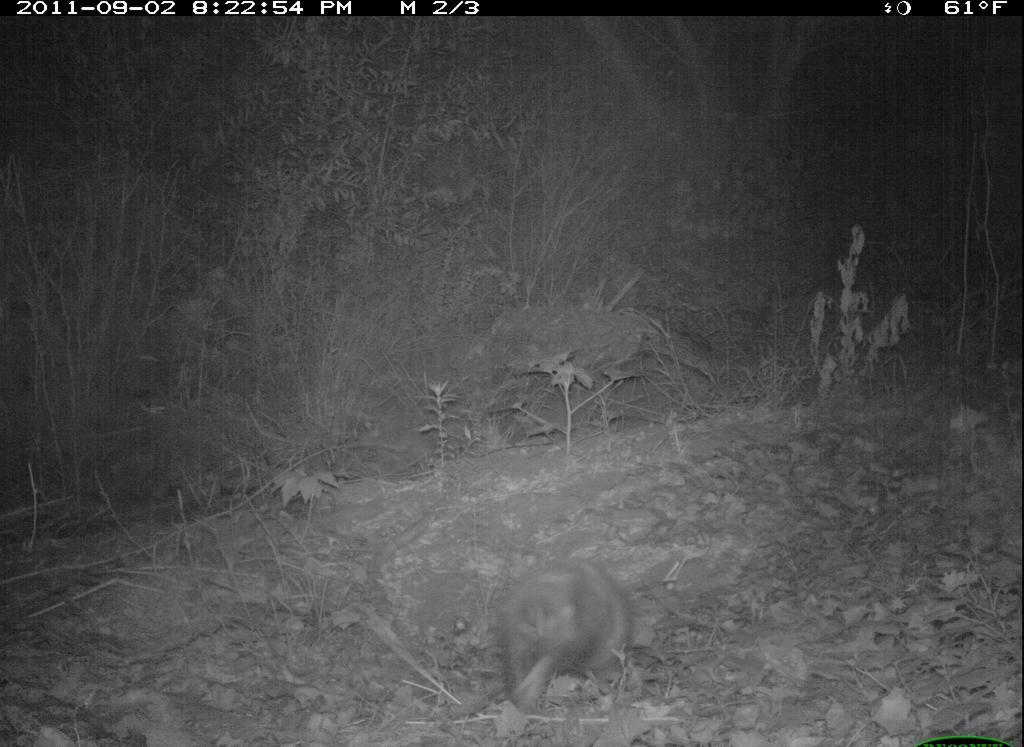opossum: (473, 551, 684, 721)
